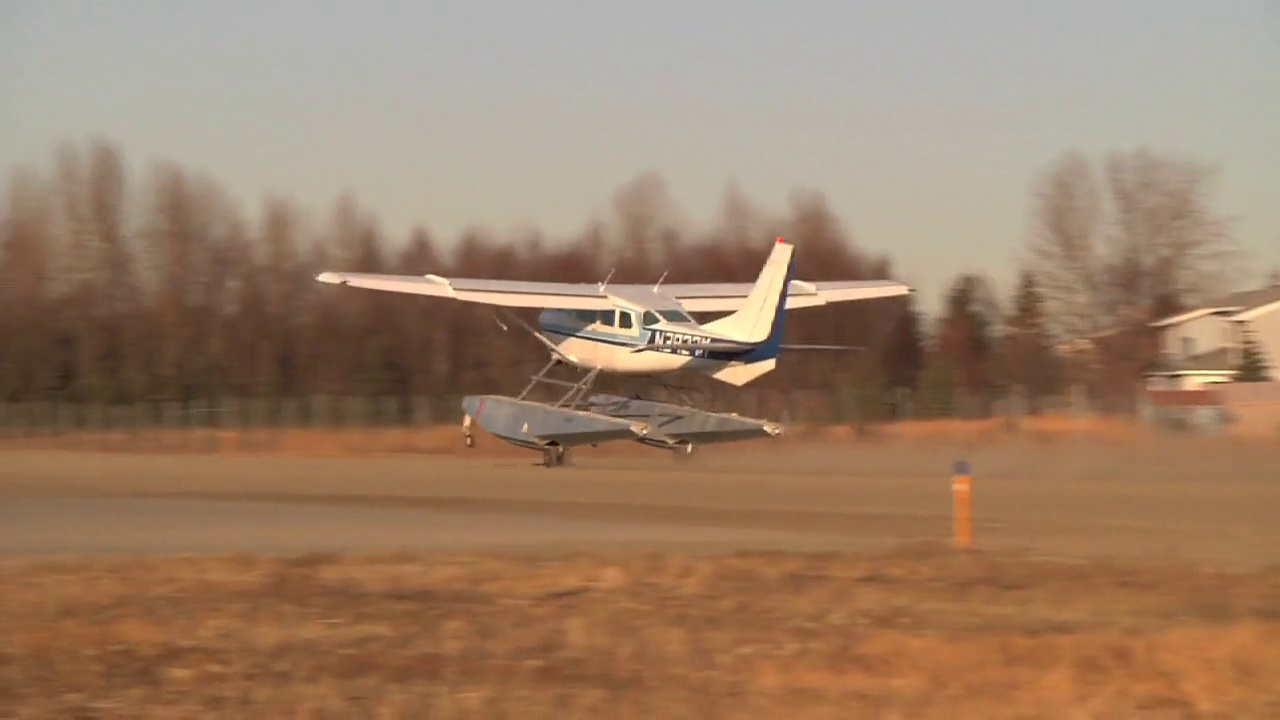plane: (311, 235, 914, 468)
